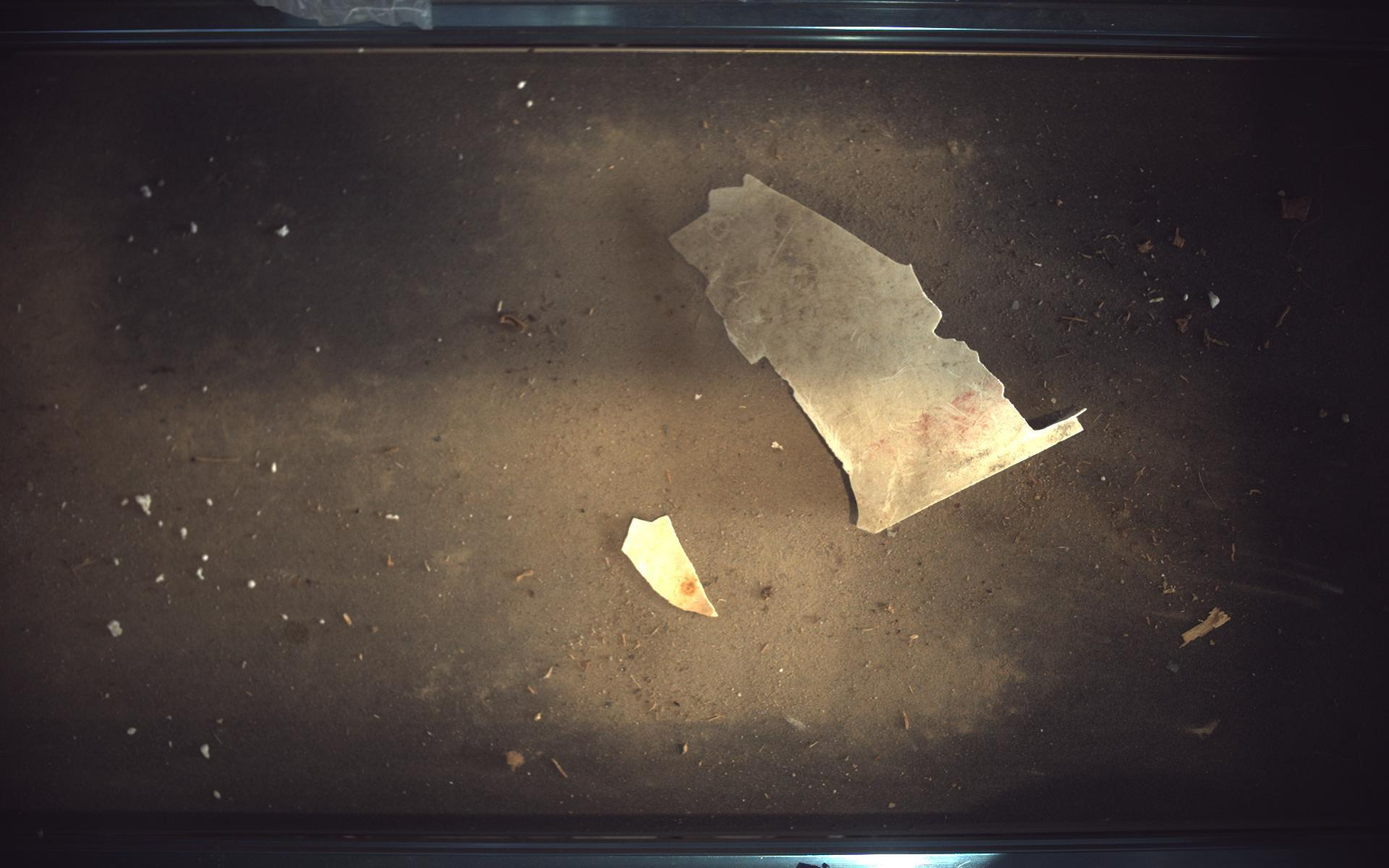plastic: (671, 174, 1084, 533), (622, 516, 718, 618)
